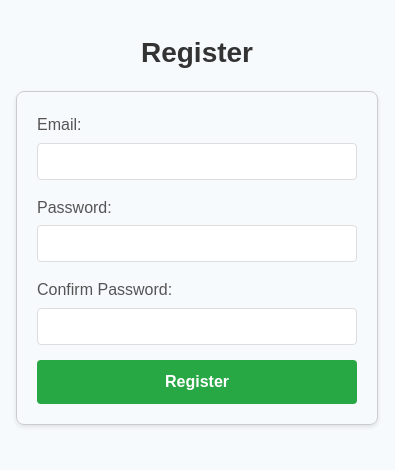
RegisterPage Component › Form Validation › shows error if passwords do not match
Type "test@example.com" into the field labelled "Email:" at [197, 161], box left=37, top=143, right=357, bottom=180
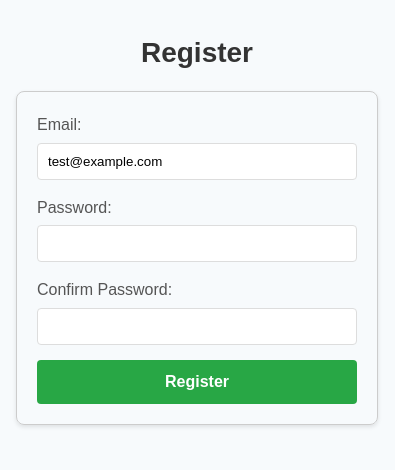
Type "password123" into the password field labelled "Password:" at [197, 244], box left=37, top=226, right=357, bottom=262
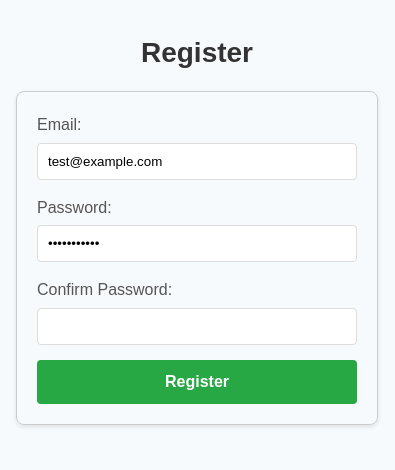
Type "password456" into the password field labelled "Confirm Password:" at [197, 327], box left=37, top=308, right=357, bottom=345
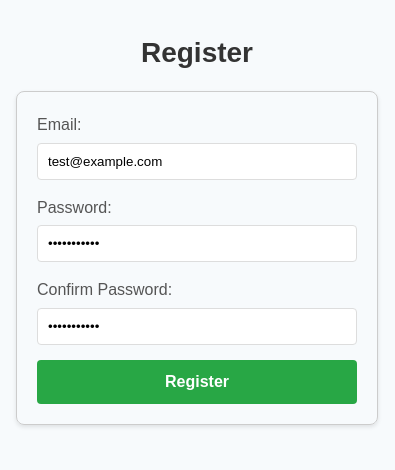
Click the button "Register" at [197, 382], box left=37, top=360, right=357, bottom=404
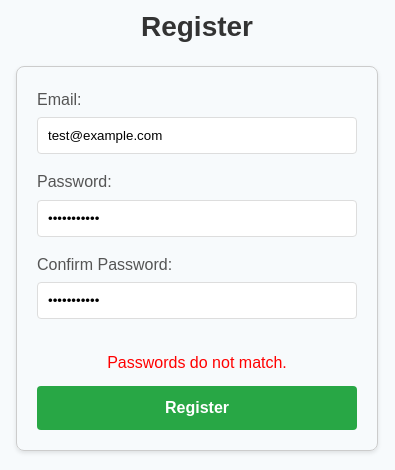
Result: the text "Passwords do not match." is shown at left=107, top=354, right=287, bottom=371
